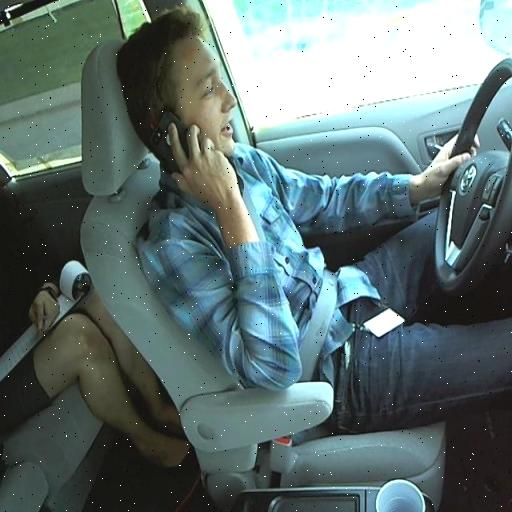talking_phone: (121, 111, 472, 412)
